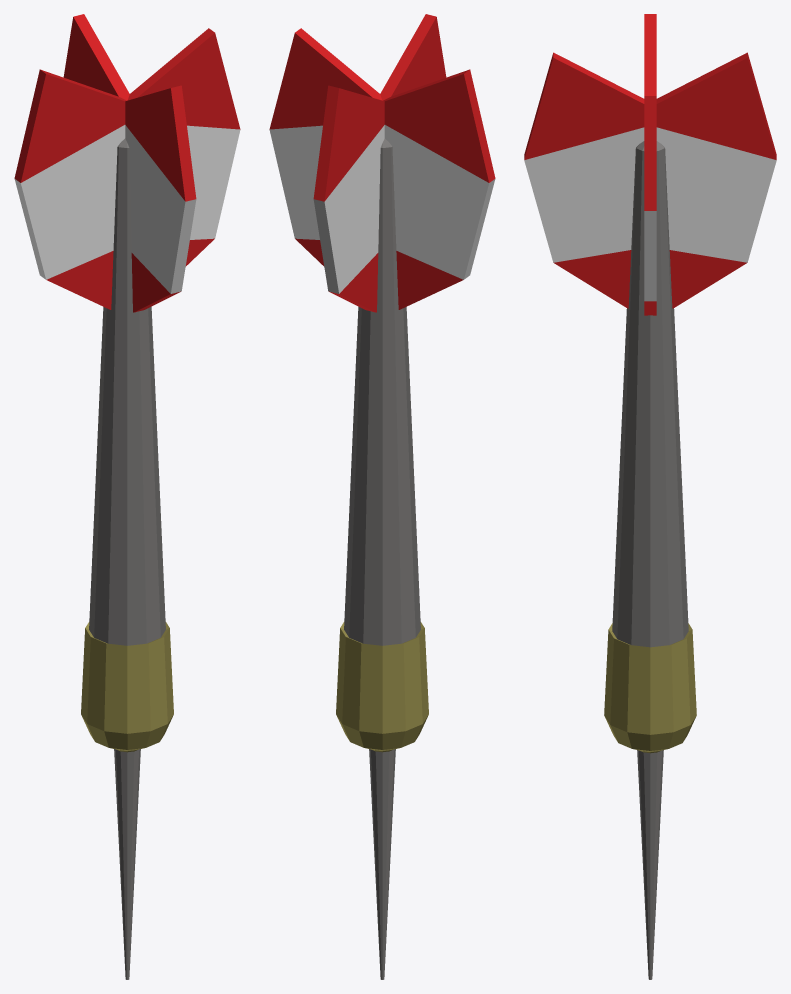
Rendered from Dart 2.fbx.
3 renders of one model, left to right at view 1: azimuth 30°, elevation 25°; view 2: azimuth 150°, elevation 25°; view 3: azimuth 270°, elevation 25°, orthographic.
Parts seen in each view (by area): view 1: Dart 2; view 2: Dart 2; view 3: Dart 2.
Part boxes in pixels (bbox=[...]): Dart 2: bbox=[14, 14, 240, 979]; Dart 2: bbox=[269, 14, 495, 979]; Dart 2: bbox=[524, 14, 776, 979].
Size of the model in its own units: 47.95 by 194 by 47.95.
